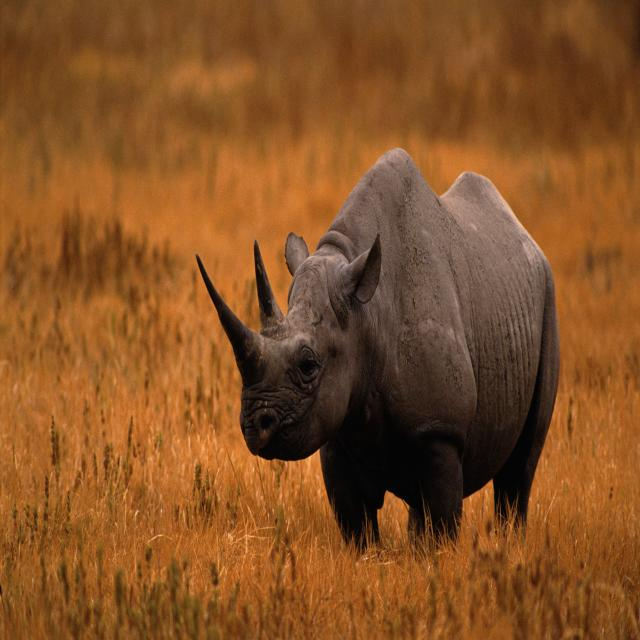rhinoceros: (197, 149, 559, 544)
